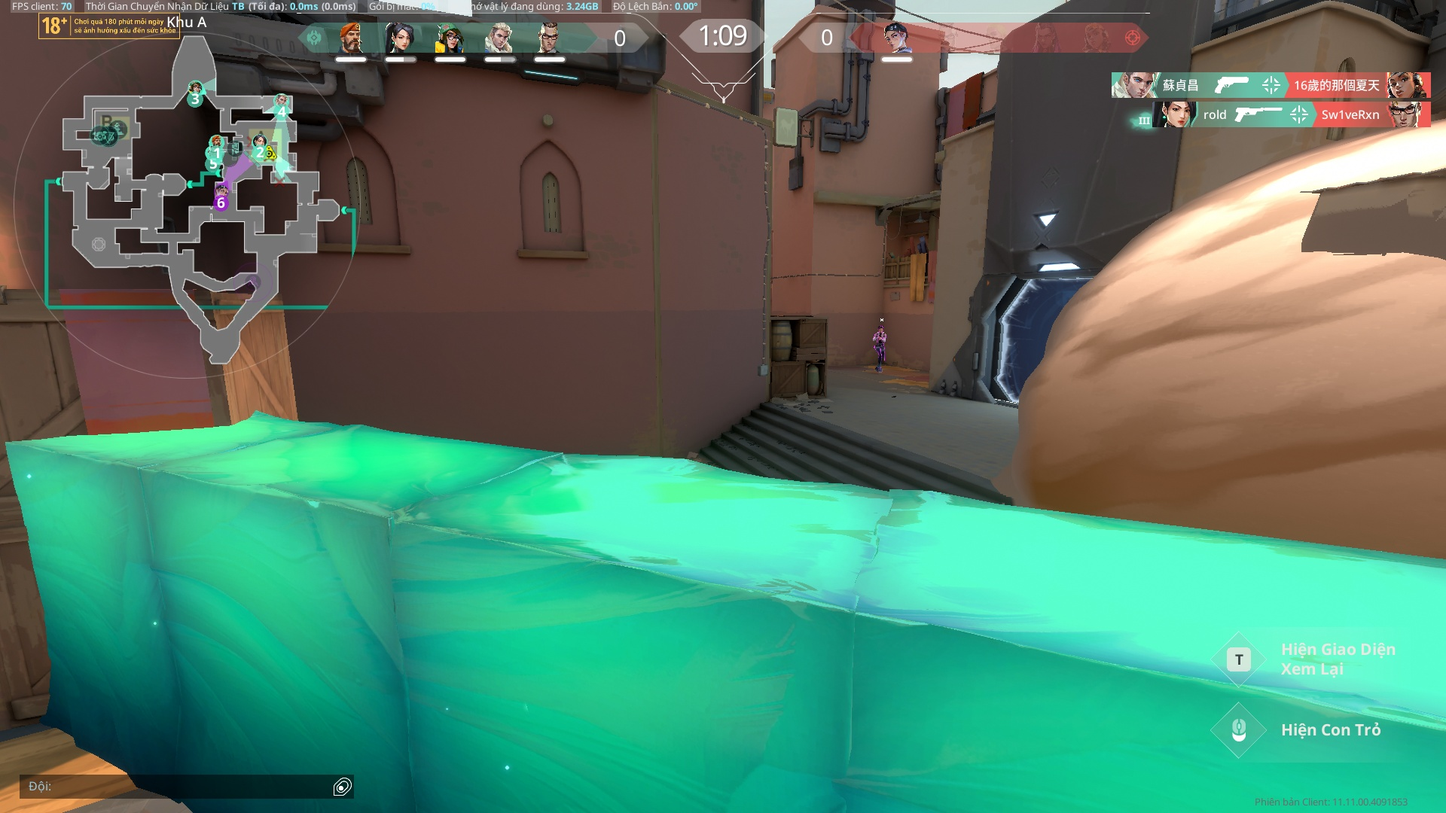body: (875, 330, 887, 344)
head: (878, 325, 883, 332)
